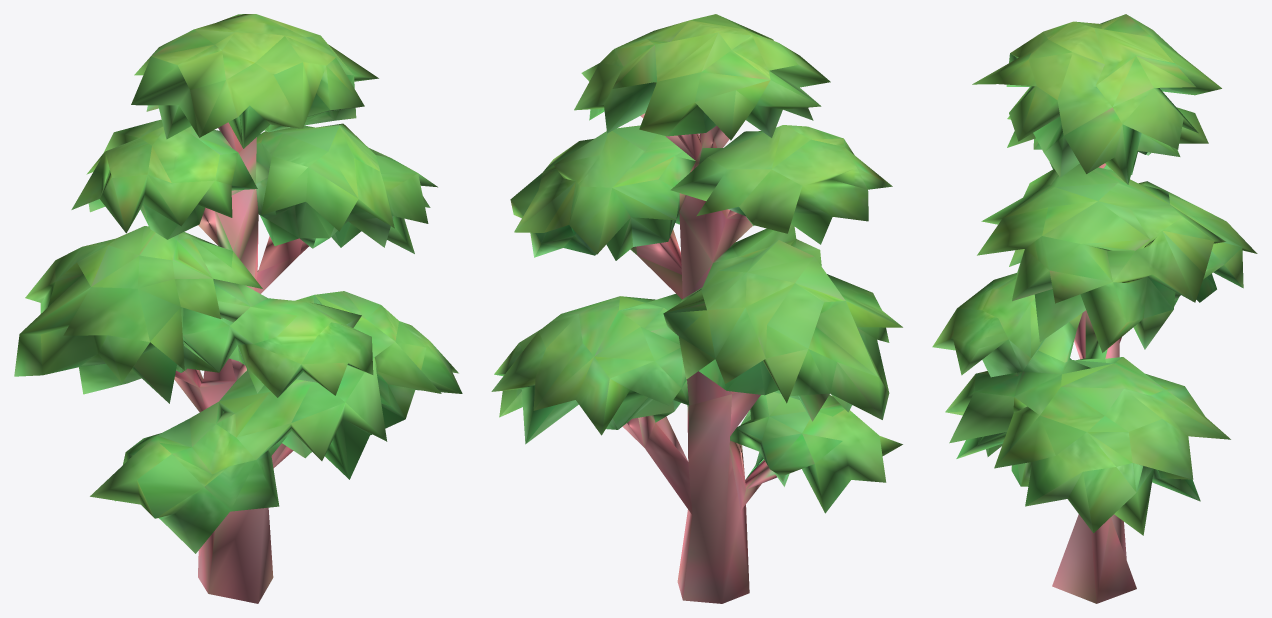
Rendered from tree-tall.glb.
3 views of the same model, side by side, from view 1: azimuth 30°, elevation 25°; view 2: azimuth 150°, elevation 25°; view 3: azimuth 270°, elevation 25° (orthographic).
Visible parts, largest first — view 1: plant_tree-tall; view 2: plant_tree-tall; view 3: plant_tree-tall.
Boxes of the visible parts, x1=… form: plant_tree-tall: x1=14, y1=14, x2=462, y2=603; plant_tree-tall: x1=491, y1=14, x2=902, y2=603; plant_tree-tall: x1=932, y1=14, x2=1257, y2=603.
Bounding box in the file's own units: 0.7823 × 1 × 0.5292.
Materials: 1 (1 with a texture image).
